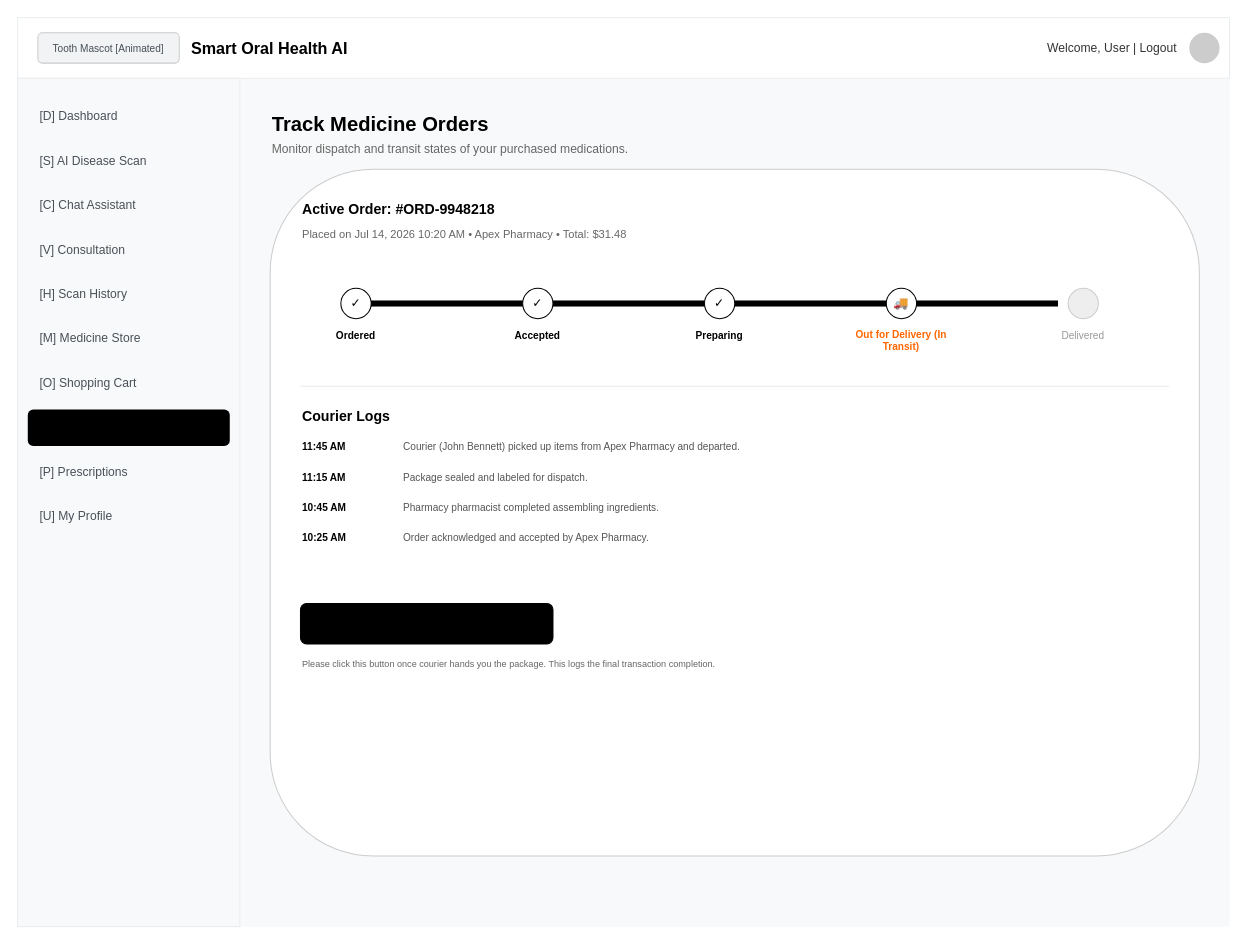
Some shapes in this 1247 by 944 pixel diagram are drawn without their labels. Here are the shapes that lost their labels. From the top down, the centre of each, then its label:
the point at 128,427: [T] Track Orders
the point at 426,623: Confirm Shipment Received
